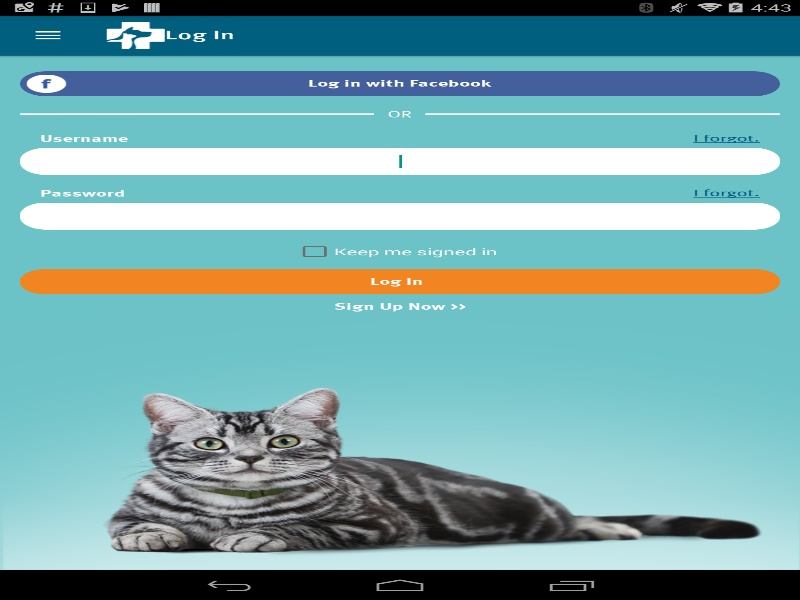Button: (10, 15, 85, 55)
Input: (20, 148, 780, 175), (20, 202, 780, 229)
